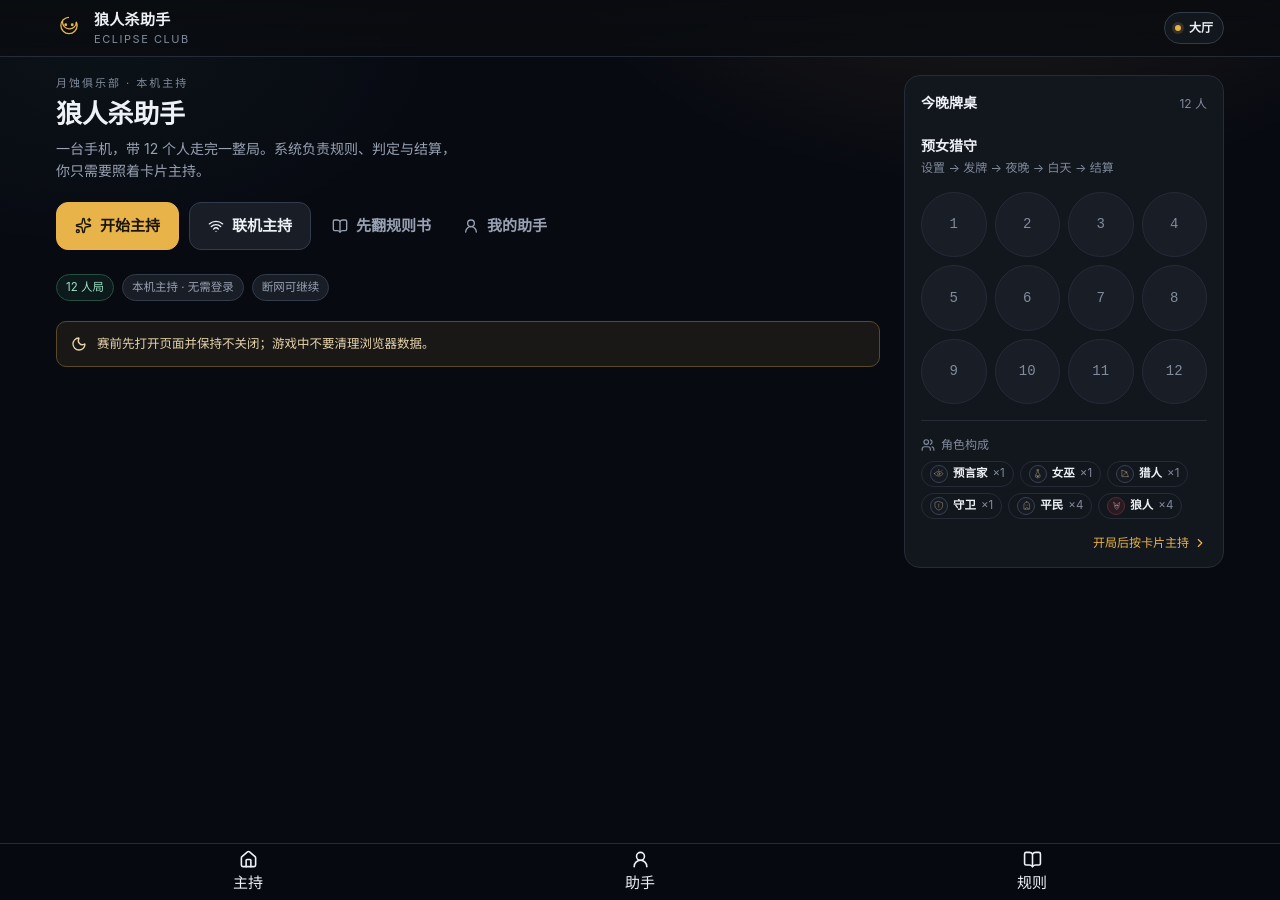
Test: 个人助手 › 可自选身份并显示技能与身份攻略
This screenshot has width=1280, height=900.
Expected: the heading "狼人杀助手" is shown, x1=56 y1=98 x2=185 y2=129
Step 1. Click the button "我的助手" → (505, 226), box x1=452 y1=202 x2=558 y2=250
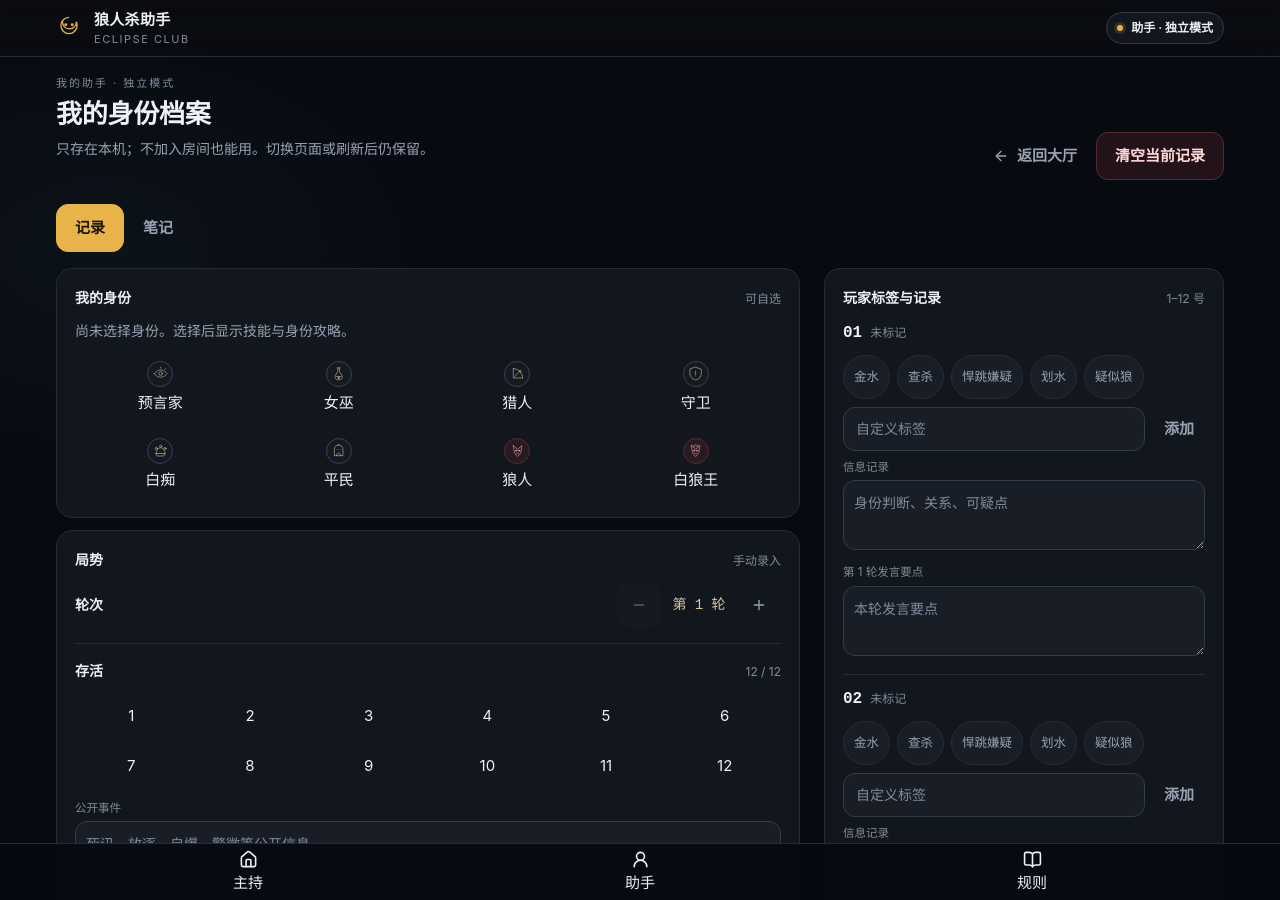
Expected: the heading "我的身份档案" is shown, x1=56 y1=98 x2=210 y2=129
Expected: the text "尚未选择身份。选择后显示技能与身份攻略。" is shown, x1=75 y1=322 x2=355 y2=339
Step 2. Click the button "狼人" → (517, 465), box x1=432 y1=430 x2=602 y2=499
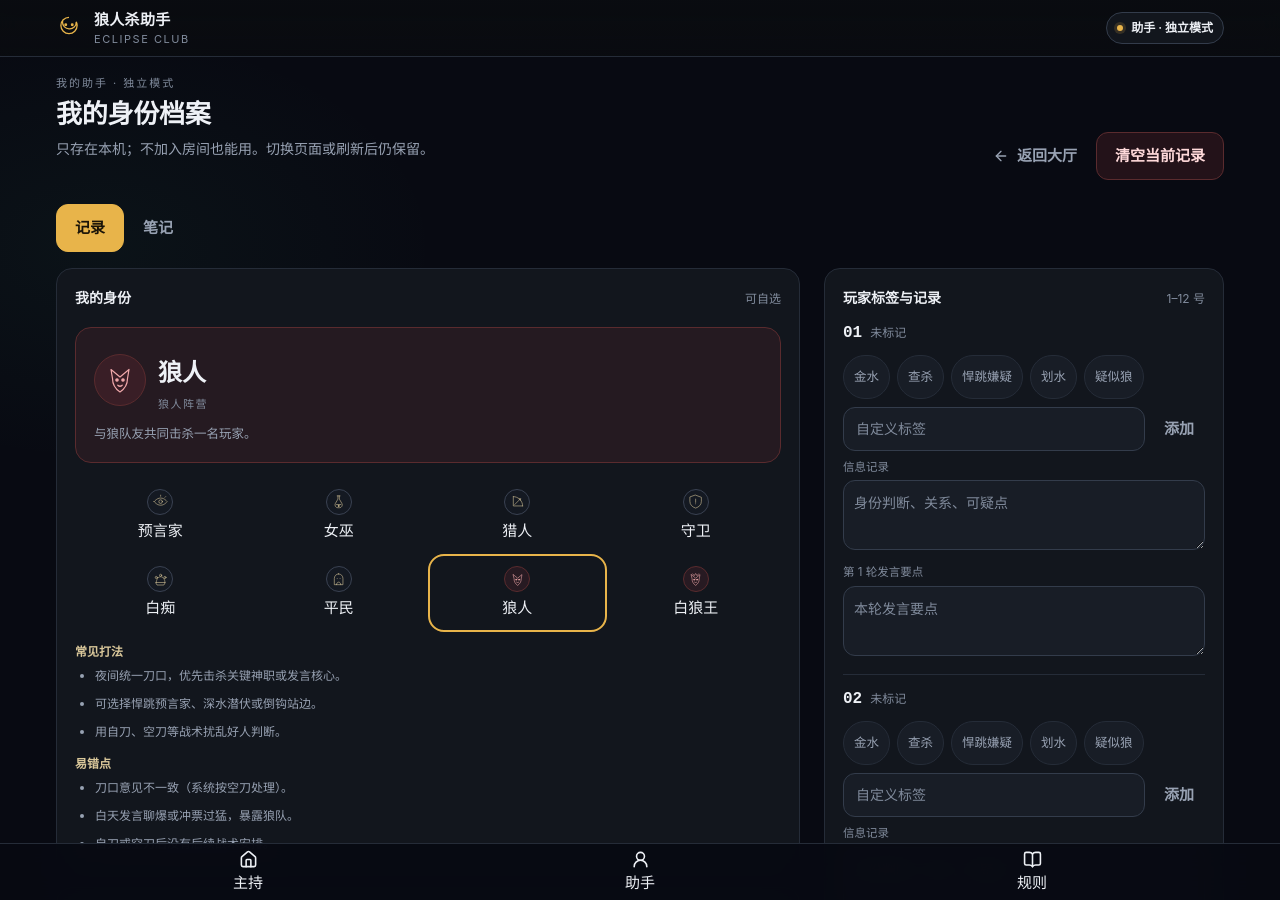
Expected: the text "狼人阵营" is shown, x1=158 y1=397 x2=208 y2=411
Expected: the text "与狼队友共同击杀一名玩家。" is shown, x1=94 y1=426 x2=256 y2=441
Expected: the heading "常见打法" is shown, x1=75 y1=644 x2=123 y2=659
